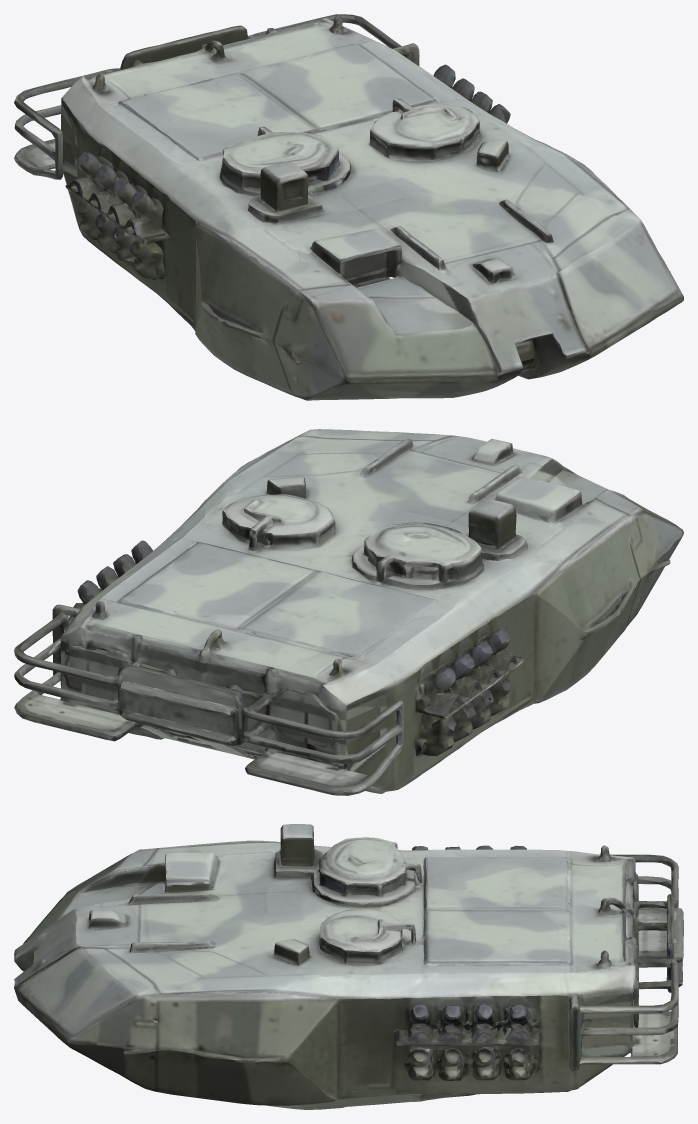
File: main_turret_v6.glb
The picture shows the model from 3 angles, top to bottom: view 1: azimuth 30°, elevation 25°; view 2: azimuth 150°, elevation 25°; view 3: azimuth 270°, elevation 25°; orthographic projection. The views are drawn at different scales.
Visible parts, largest first — view 1: geometry_0; view 2: geometry_0; view 3: geometry_0.
Part boxes in pixels (left/top/right/bottom): geometry_0: left=14, top=14, right=683, bottom=400; geometry_0: left=14, top=429, right=683, bottom=795; geometry_0: left=14, top=824, right=683, bottom=1109.
Size of the model in its own units: 6.5 by 3.17 by 10.36.
1 material, 1 textured.
